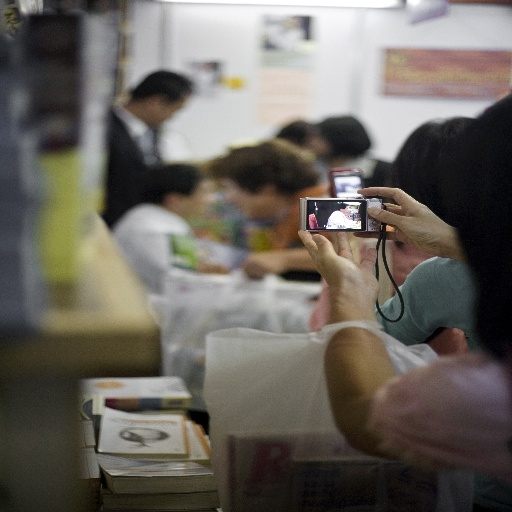hand: (377, 178, 471, 264), (293, 228, 379, 291), (238, 248, 294, 279)
